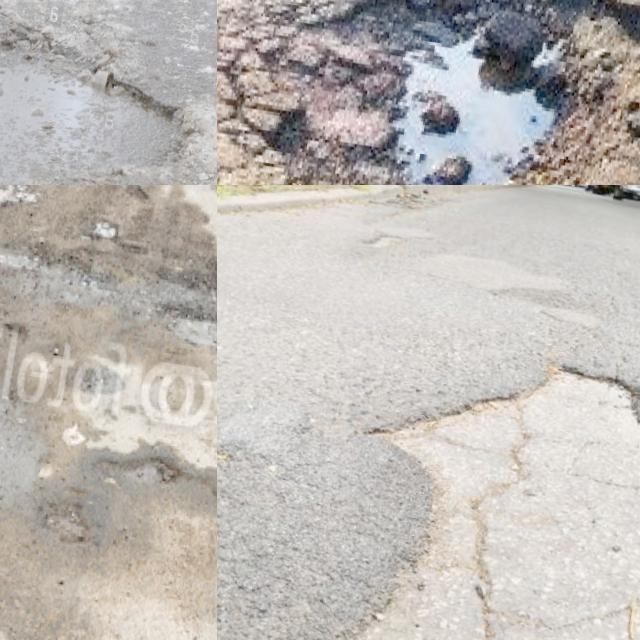Potholes: (296, 302, 640, 640), (222, 0, 640, 185), (0, 0, 217, 185), (54, 427, 213, 541), (48, 190, 137, 313), (145, 246, 217, 391)
